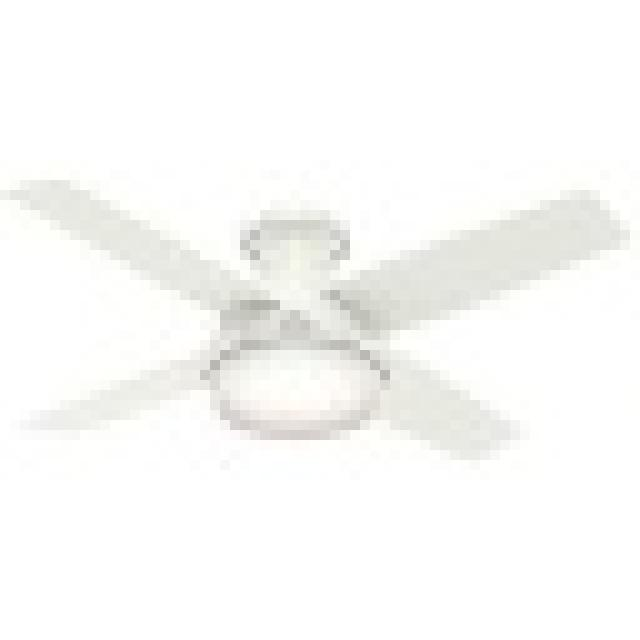Bulb: (21, 152, 610, 508)
